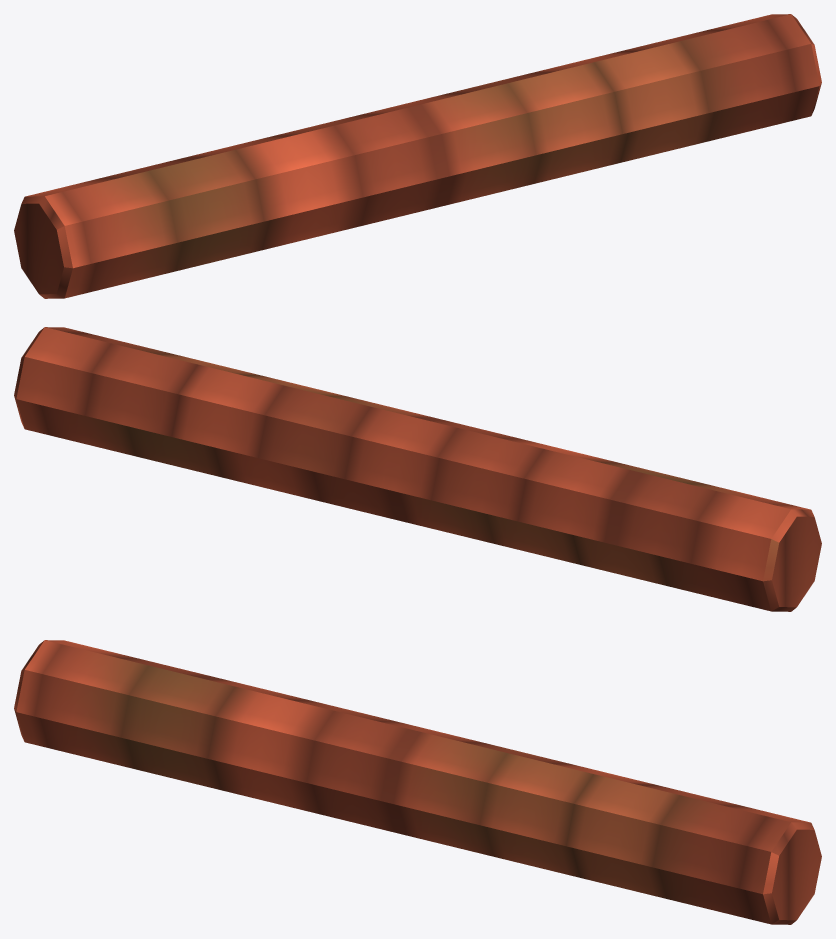
Rendered from SM_Mod_Roof_Tile_4m_Ridge.obj.
The picture shows the model from 3 angles, top to bottom: view 1: azimuth 30°, elevation 25°; view 2: azimuth 150°, elevation 25°; view 3: azimuth 330°, elevation 25°; orthographic projection.
Parts seen in each view (by area): view 1: SM_Mod_Roof_Tile_4m_Ridge; view 2: SM_Mod_Roof_Tile_4m_Ridge; view 3: SM_Mod_Roof_Tile_4m_Ridge.
Part boxes in pixels (box(x1,y1,x2,y2)): SM_Mod_Roof_Tile_4m_Ridge: box(14, 14, 821, 298); SM_Mod_Roof_Tile_4m_Ridge: box(14, 327, 821, 611); SM_Mod_Roof_Tile_4m_Ridge: box(14, 640, 821, 924).
Size of the model in its own units: 2.01 by 0.26 by 0.26.
1 material, 1 textured.
